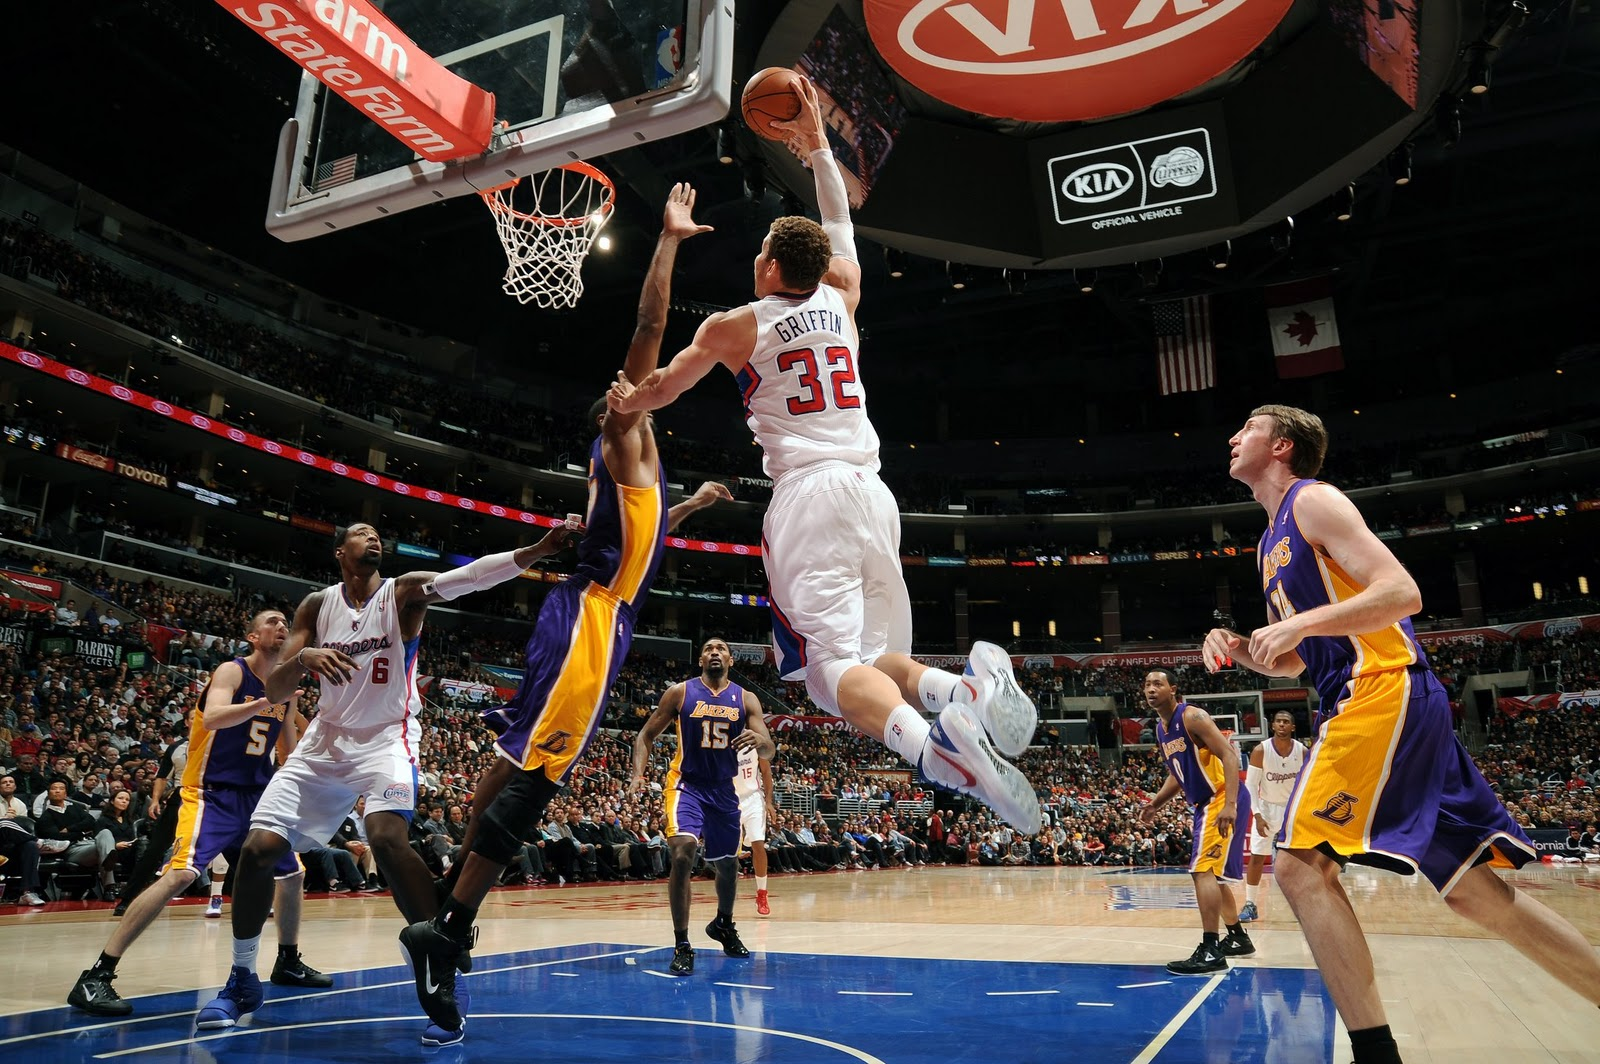basketball: (737, 65, 824, 146)
basketball player: (612, 84, 1048, 841), (398, 189, 734, 1033), (1207, 401, 1600, 1050), (193, 514, 588, 1033), (68, 606, 298, 1021), (620, 641, 783, 982), (1144, 663, 1256, 972), (1249, 699, 1312, 933)
